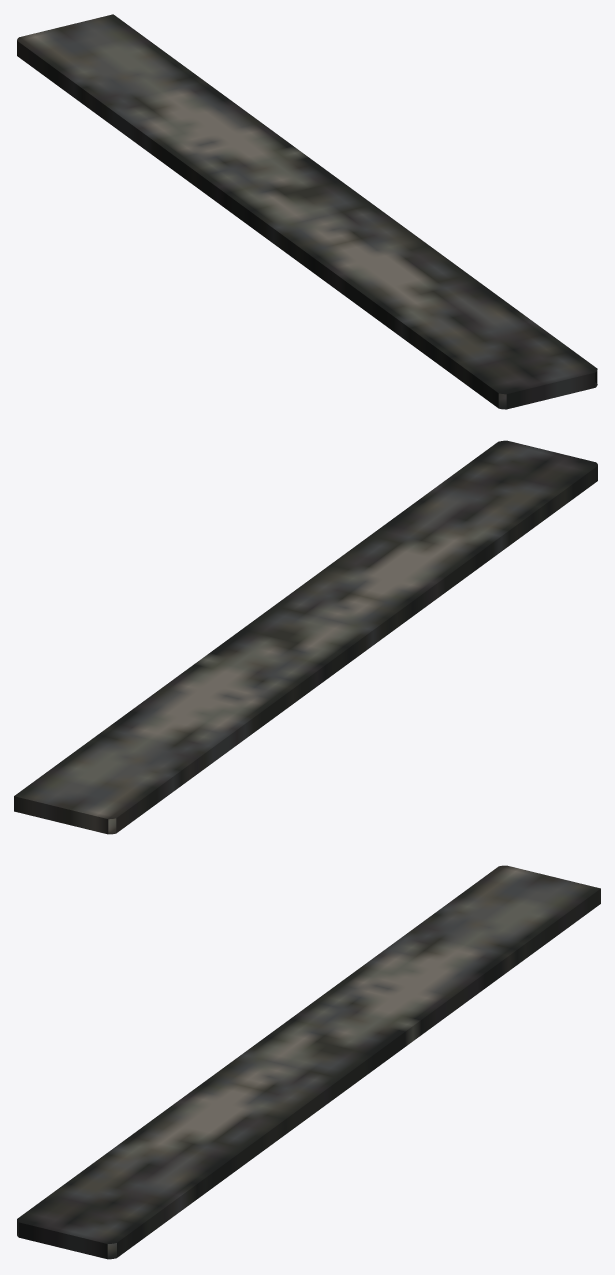
Rendered from SM_EC_Fence_Part_45.fbx.
The picture shows the model from 3 angles, top to bottom: view 1: azimuth 30°, elevation 25°; view 2: azimuth 150°, elevation 25°; view 3: azimuth 330°, elevation 25°; orthographic projection.
Visible parts, largest first — view 1: SM_EC_Fence_Part_45; view 2: SM_EC_Fence_Part_45; view 3: SM_EC_Fence_Part_45.
Boxes of the visible parts, x1,y1,x2,y2 form: SM_EC_Fence_Part_45: [17, 14, 597, 409]; SM_EC_Fence_Part_45: [14, 440, 597, 834]; SM_EC_Fence_Part_45: [17, 865, 600, 1259].
Size of the model in its own units: 0.1233 by 1.05 by 0.0181.
